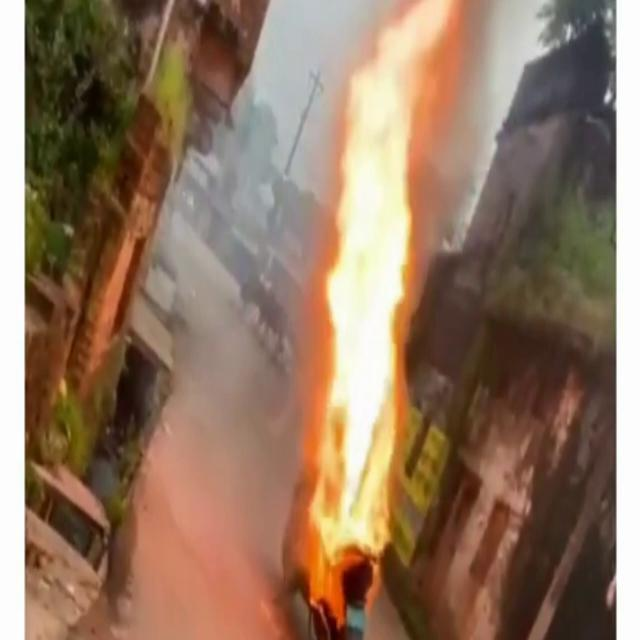Fire: (297, 1, 463, 588)
